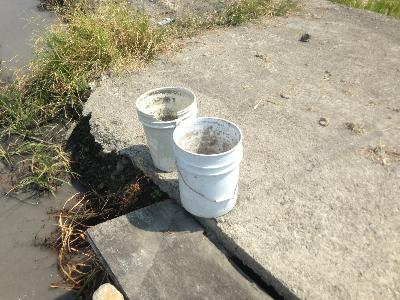bucket: (173, 115, 243, 219), (135, 86, 200, 173)
